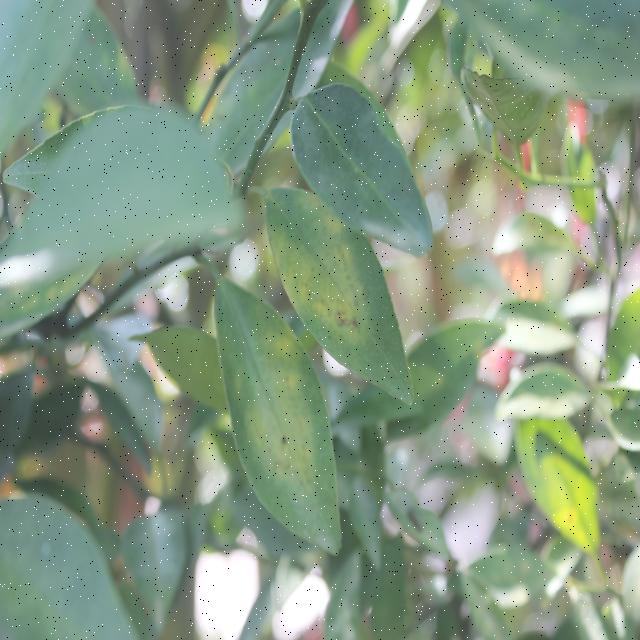blackspot: (300, 238, 394, 354), (255, 373, 324, 516)
